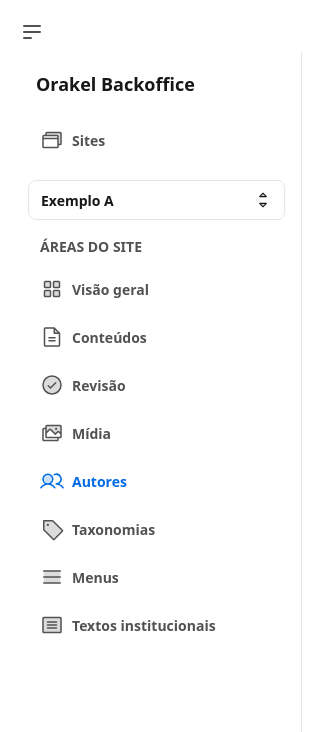
Scenario: SideNav recolhida › a marca continua "Orakel Backoffice"; o seletor vira as iniciais; o rótulo do grupo some e volta
This screenshot has width=332, height=732.
Expected: the button named "trocar de site" is shown, [28,180,285,220]
Expected: the text "Áreas do site" is shown, [40,237,142,256]
What coordinates should you click on to do the following:
click the button named "Navegação lateral"
I would click on:
 (32, 32)
Its box is [12,12,52,52].
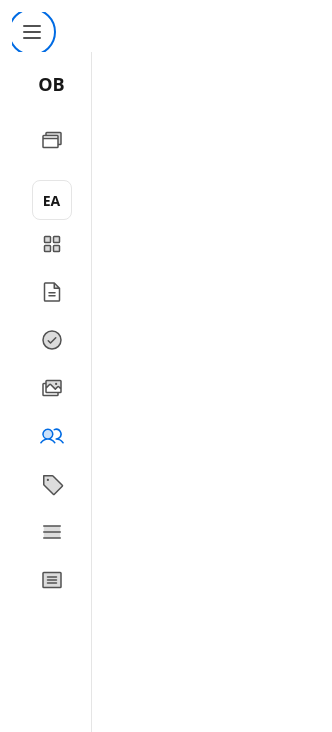
Expected: the text "EA" is shown, [43,190,60,210]
Expected: the text "Áreas do site" is gone
What coordinates should you click on to do the following:
click the button named "Navegação lateral"
I would click on:
 (32, 32)
Its box is [12,12,52,52].
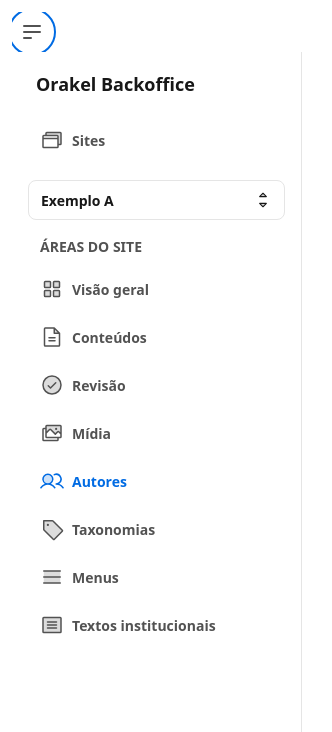
Expected: the button named "trocar de site" is shown, [28,180,285,220]
Expected: the text "Áreas do site" is shown, [40,237,142,256]
